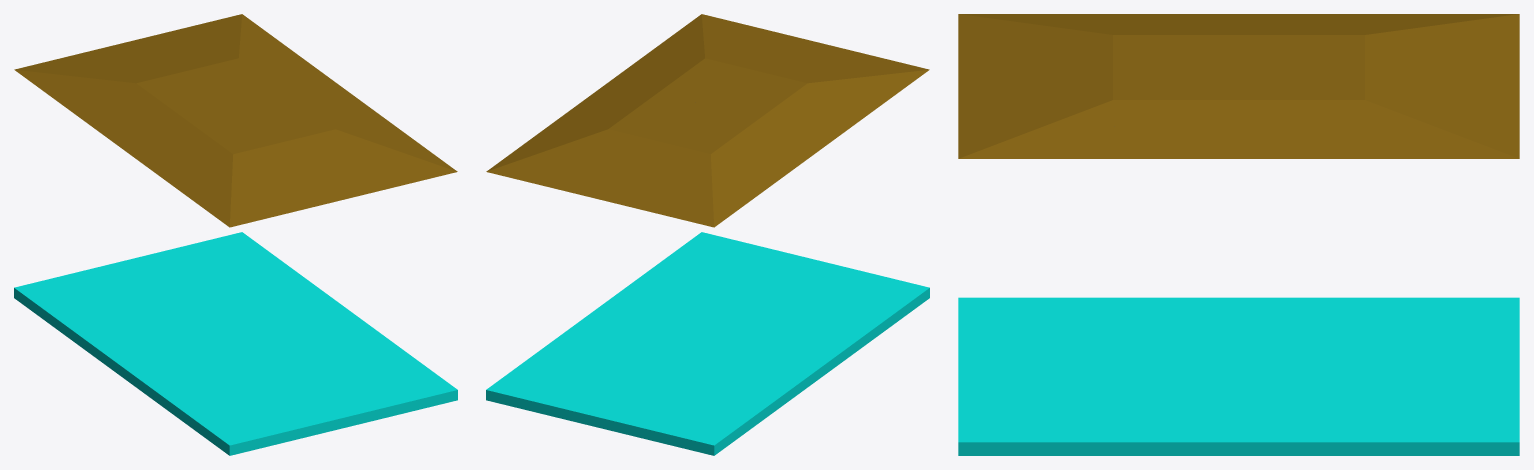
File: Environment_Attachment_Balcony_B_Shattered.fbx
3 renders of one model, left to right at view 1: azimuth 30°, elevation 25°; view 2: azimuth 150°, elevation 25°; view 3: azimuth 270°, elevation 25°, orthographic. The views are drawn at different scales.
Parts seen in each view (by area): view 1: Environment_Attachment_Balcony_B10, Environment_Attachment_Balcony_B11, Environment_Attachment_Balcony_B6, Environment_Attachment_Balcony_B4, Environment_Attachment_Balcony_B9, Environment_Attachment_Balcony_B8, Environment_Attachment_Balcony_B5, Environment_Attachment_Balcony_B7; view 2: Environment_Attachment_Balcony_B11, Environment_Attachment_Balcony_B10, Environment_Attachment_Balcony_B6, Environment_Attachment_Balcony_B9, Environment_Attachment_Balcony_B4, Environment_Attachment_Balcony_B8, Environment_Attachment_Balcony_B5, Environment_Attachment_Balcony_B7; view 3: Environment_Attachment_Balcony_B11, Environment_Attachment_Balcony_B10, Environment_Attachment_Balcony_B4, Environment_Attachment_Balcony_B6, Environment_Attachment_Balcony_B9, Environment_Attachment_Balcony_B8, Environment_Attachment_Balcony_B5, Environment_Attachment_Balcony_B7.
Part boxes in pixels (<box>): Environment_Attachment_Balcony_B10: <box>116,102,455,227</box>; Environment_Attachment_Balcony_B11: <box>47,14,354,109</box>; Environment_Attachment_Balcony_B6: <box>72,322,291,455</box>; Environment_Attachment_Balcony_B4: <box>244,212,457,452</box>; Environment_Attachment_Balcony_B9: <box>14,50,220,339</box>; Environment_Attachment_Balcony_B8: <box>206,232,374,334</box>; Environment_Attachment_Balcony_B5: <box>314,97,457,172</box>; Environment_Attachment_Balcony_B7: <box>57,100,208,325</box>; Environment_Attachment_Balcony_B11: <box>486,82,756,207</box>; Environment_Attachment_Balcony_B10: <box>661,14,929,152</box>; Environment_Attachment_Balcony_B6: <box>672,284,929,412</box>; Environment_Attachment_Balcony_B9: <box>507,202,773,455</box>; Environment_Attachment_Balcony_B4: <box>619,232,914,319</box>; Environment_Attachment_Balcony_B8: <box>486,293,686,407</box>; Environment_Attachment_Balcony_B5: <box>600,14,703,88</box>; Environment_Attachment_Balcony_B7: <box>686,144,815,376</box>; Environment_Attachment_Balcony_B11: <box>1199,14,1519,158</box>; Environment_Attachment_Balcony_B10: <box>958,14,1299,157</box>; Environment_Attachment_Balcony_B4: <box>958,30,1211,455</box>; Environment_Attachment_Balcony_B6: <box>958,297,1364,398</box>; Environment_Attachment_Balcony_B9: <box>1306,14,1519,428</box>; Environment_Attachment_Balcony_B8: <box>1172,367,1519,455</box>; Environment_Attachment_Balcony_B5: <box>958,110,1224,158</box>; Environment_Attachment_Balcony_B7: <box>1255,14,1407,368</box>.
Size of the model in its own units: 0.8495 by 0.864 by 1.39.
